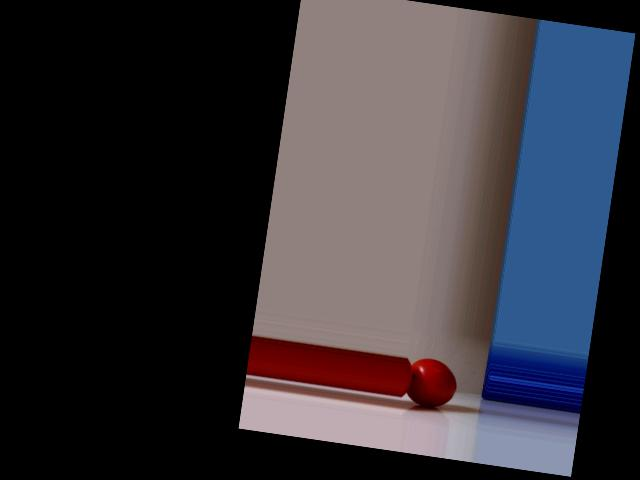tomato: (406, 356, 459, 410)
